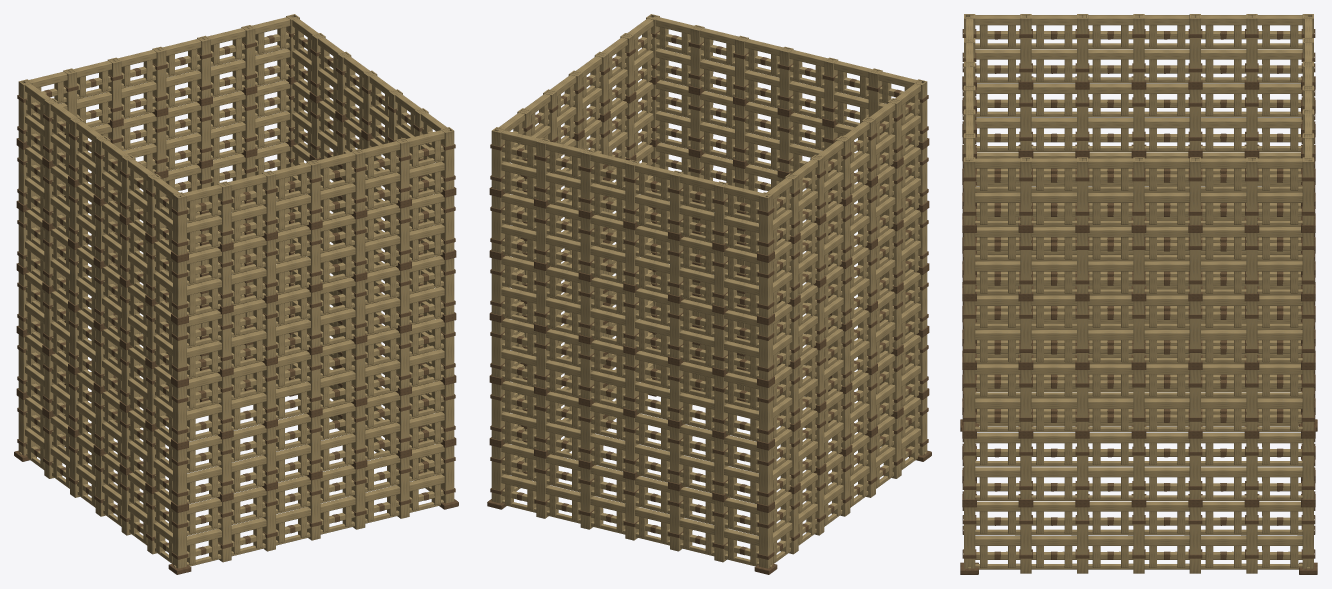
3 renders of one model, left to right at view 1: azimuth 30°, elevation 25°; view 2: azimuth 150°, elevation 25°; view 3: azimuth 270°, elevation 25°, orthographic. The views are drawn at different scales.
Parts seen in each view (by area): view 1: Tier 5 side 0 post 0, Tier 0 side 0 post 0, Tier 1 side 0 post 0, Tier 3 side 0 post 0, Tier 4 side 0 post 0, Tier 5 side 2 post 3, Tier 2 side 0 post 0, Tier 5 side 0 post 4, Tier 0 side 0 post 4, Tier 5 side 2 post 1, Tier 5 side 1 post 0, Tier 0 side 0 post 1 (+37 smaller); view 2: Tier 5 side 3 post 0, Tier 0 side 3 post 0, Tier 1 side 3 post 0, Tier 2 side 3 post 0, Tier 4 side 3 post 0, Tier 5 side 0 post 3, Tier 5 side 2 post 2, Tier 3 side 3 post 0, Tier 0 side 2 post 2, Tier 5 side 2 post 0, Tier 5 side 0 post 5, Tier 0 side 2 post 5 (+37 smaller); view 3: Tier 0 side 1 post 1, Tier 0 side 1 post 3, Tier 0 side 1 post 5, Tier 0 side 1 post 2, Tier 0 side 1 post 4, Tier 5 side 1 post 1, Tier 5 side 1 post 2, Tier 5 side 1 post 3, Tier 5 side 1 post 4, Tier 5 side 1 post 5, Tier 5 side 2 post 0, Tier 5 side 1 post 0 (+136 smaller).
Part boxes in pixels (bbox=[...]): Tier 5 side 0 post 0: bbox=[173, 192, 186, 255]; Tier 0 side 0 post 0: bbox=[173, 510, 186, 568]; Tier 1 side 0 post 0: bbox=[173, 447, 186, 505]; Tier 3 side 0 post 0: bbox=[173, 322, 186, 380]; Tier 4 side 0 post 0: bbox=[173, 260, 186, 317]; Tier 5 side 2 post 3: bbox=[152, 46, 166, 109]; Tier 2 side 0 post 0: bbox=[173, 385, 186, 442]; Tier 5 side 0 post 4: bbox=[351, 149, 365, 211]; Tier 0 side 0 post 4: bbox=[351, 467, 365, 529]; Tier 5 side 2 post 1: bbox=[241, 25, 255, 87]; Tier 5 side 1 post 0: bbox=[440, 127, 454, 190]; Tier 0 side 0 post 1: bbox=[218, 500, 231, 562]; Tier 5 side 3 post 0: bbox=[759, 192, 772, 255]; Tier 0 side 3 post 0: bbox=[759, 510, 772, 568]; Tier 1 side 3 post 0: bbox=[759, 447, 772, 505]; Tier 2 side 3 post 0: bbox=[759, 385, 772, 442]; Tier 4 side 3 post 0: bbox=[759, 260, 772, 317]; Tier 5 side 0 post 3: bbox=[779, 46, 793, 109]; Tier 5 side 2 post 2: bbox=[580, 149, 594, 211]; Tier 3 side 3 post 0: bbox=[759, 322, 772, 380]; Tier 0 side 2 post 2: bbox=[580, 467, 594, 529]; Tier 5 side 2 post 0: bbox=[491, 127, 505, 190]; Tier 5 side 0 post 5: bbox=[690, 25, 704, 87]; Tier 0 side 2 post 5: bbox=[714, 500, 727, 562]; Tier 0 side 1 post 1: bbox=[1020, 507, 1031, 573]; Tier 0 side 1 post 3: bbox=[1133, 507, 1144, 573]; Tier 0 side 1 post 5: bbox=[1246, 507, 1257, 573]; Tier 0 side 1 post 2: bbox=[1077, 507, 1088, 573]; Tier 0 side 1 post 4: bbox=[1189, 507, 1200, 573]; Tier 5 side 1 post 1: bbox=[1020, 157, 1031, 224]; Tier 5 side 1 post 2: bbox=[1077, 157, 1088, 224]; Tier 5 side 1 post 3: bbox=[1133, 157, 1144, 224]; Tier 5 side 1 post 4: bbox=[1189, 157, 1200, 224]; Tier 5 side 1 post 5: bbox=[1246, 157, 1257, 224]; Tier 5 side 2 post 0: bbox=[1302, 157, 1313, 224]; Tier 5 side 1 post 0: bbox=[964, 157, 975, 224].
Size of the model in its own units: 2.85 by 3.62 by 2.85.
2 materials, 2 textured.
